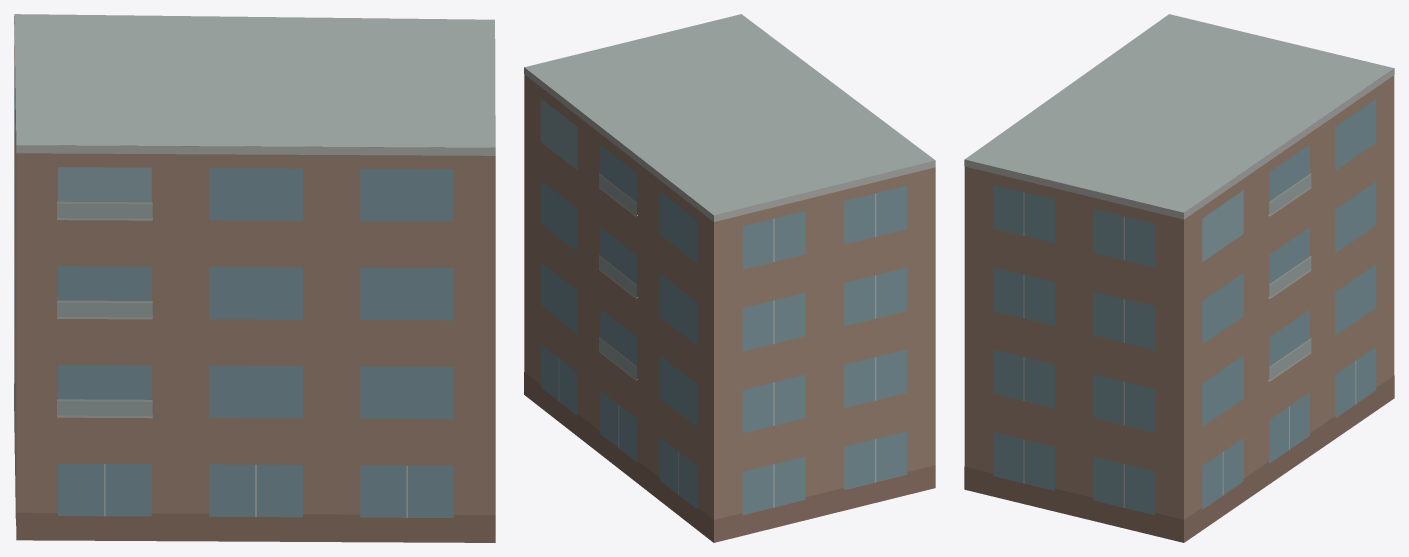
File: survey-upis-32894426.glb
The picture shows the model from 3 angles, left to right: view 1: azimuth 30°, elevation 25°; view 2: azimuth 150°, elevation 25°; view 3: azimuth 270°, elevation 25°; orthographic projection. The views are drawn at different scales.
Visible parts, largest first — view 1: survey-upis-32894426.tmp; view 2: survey-upis-32894426.tmp; view 3: survey-upis-32894426.tmp.
Boxes of the visible parts, x1=… form: survey-upis-32894426.tmp: x1=14, y1=14, x2=495, y2=542; survey-upis-32894426.tmp: x1=524, y1=14, x2=935, y2=542; survey-upis-32894426.tmp: x1=964, y1=14, x2=1394, y2=542.
Size of the model in its own units: 15.25 by 11.8 by 13.94.
